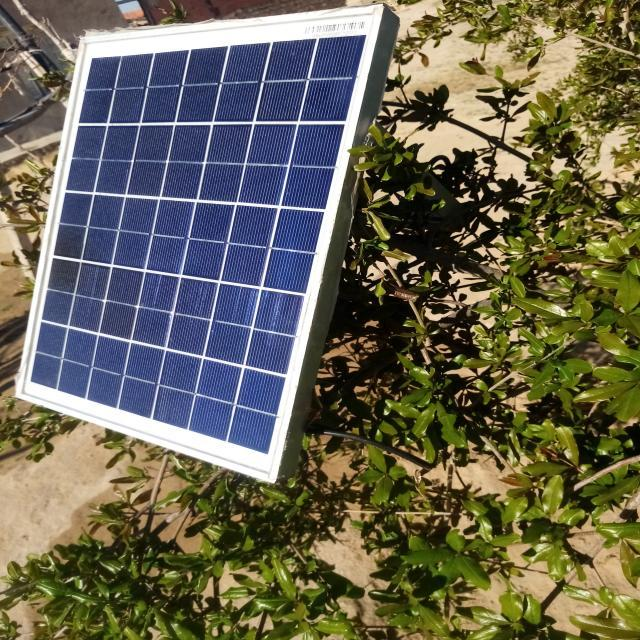no faulty: (8, 6, 386, 482)
